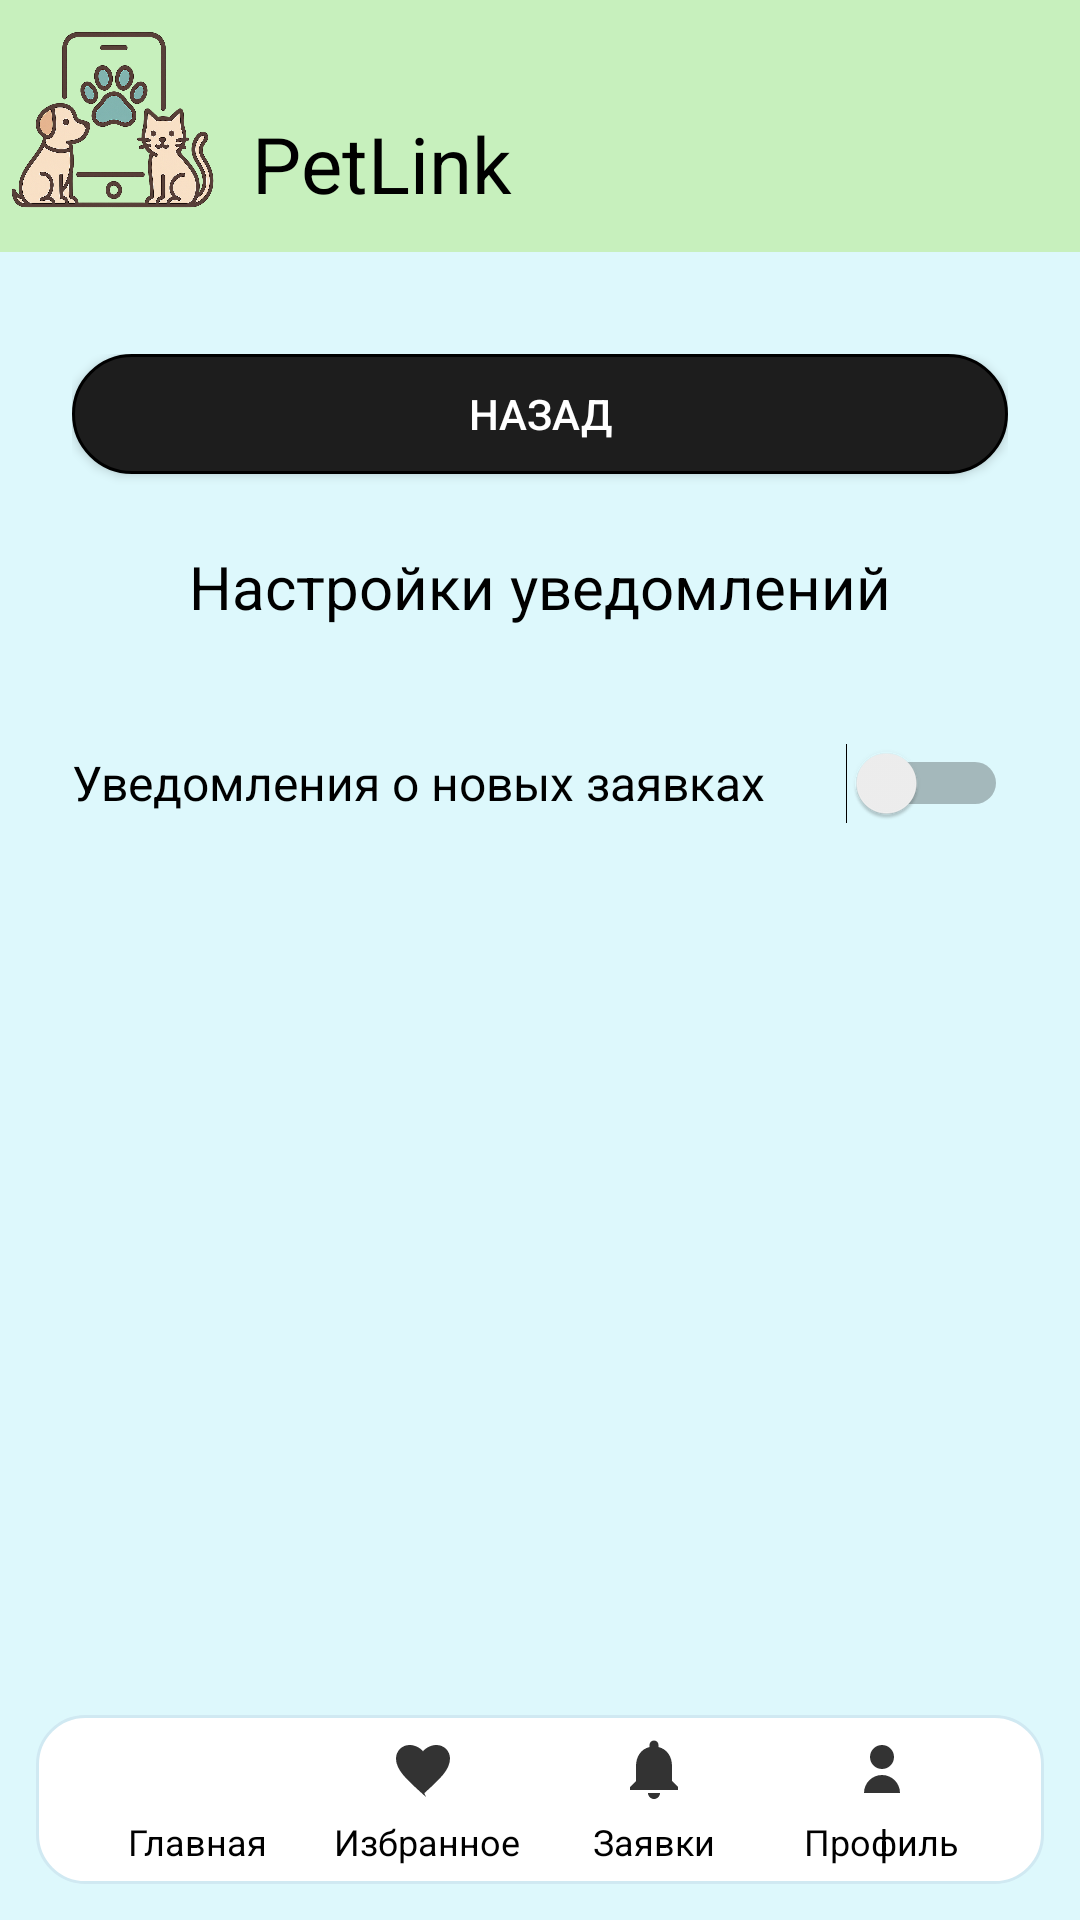

Screen size 1080 x 1920. Icon name, then its box in pixels as (x1, y1, x2, y2):
bell: (630, 1740, 678, 1799)
